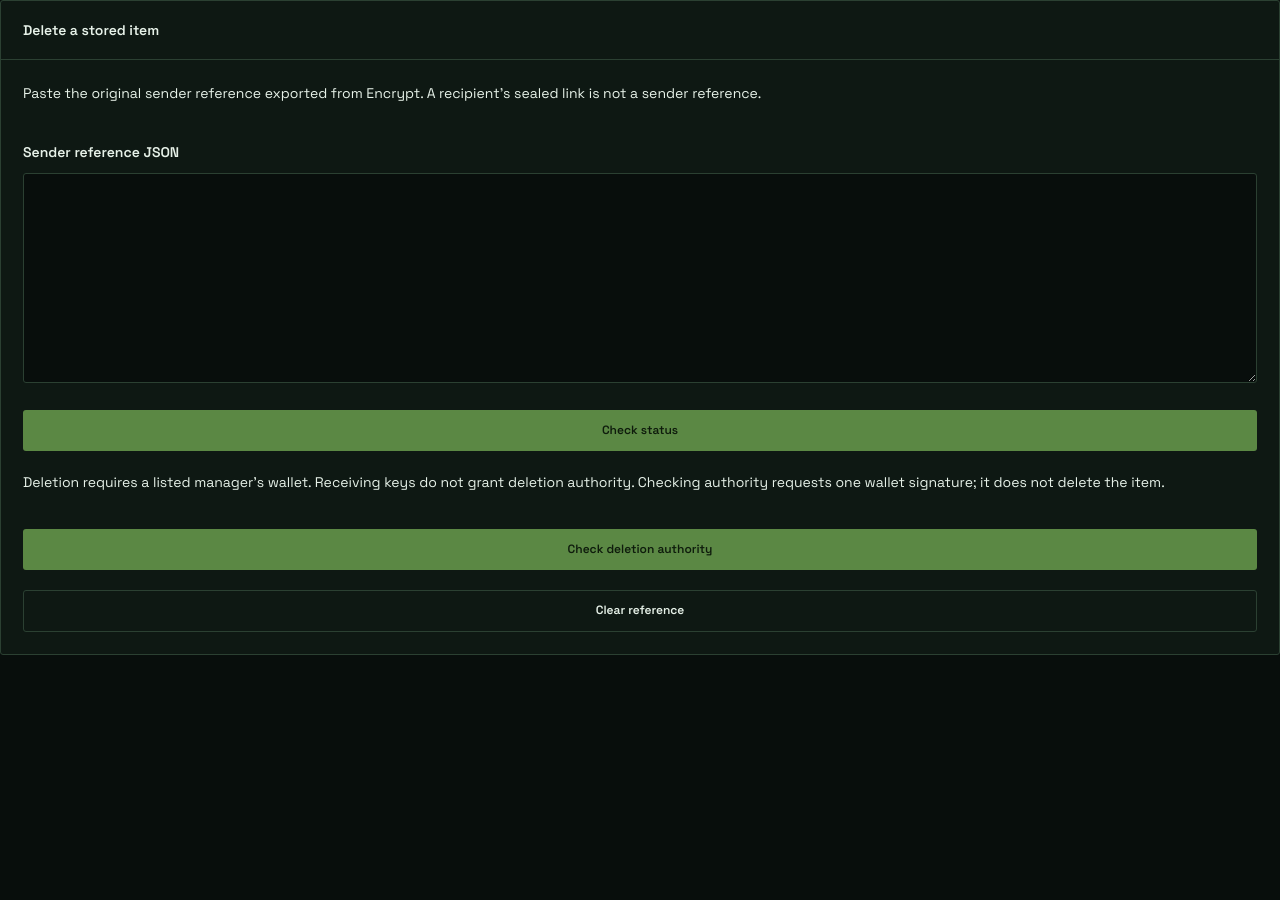
it: changing a reviewed reference clears deletion authority without submitting
In the text box labelled "Sender reference JSON": (640, 278) 23,173 -> 1257,383, type "reference"
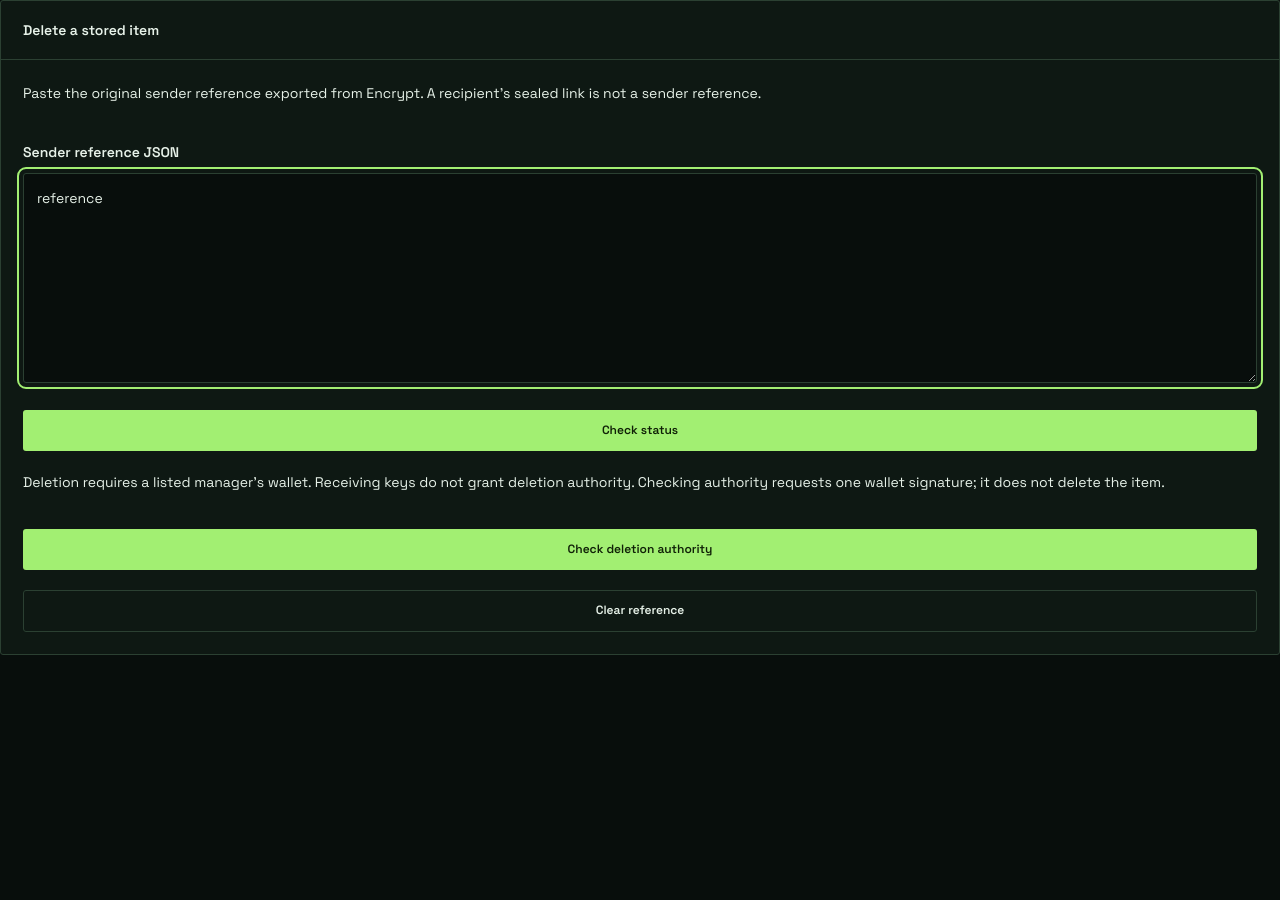
Click the button "Check deletion authority": (640, 550) 23,529 -> 1257,570
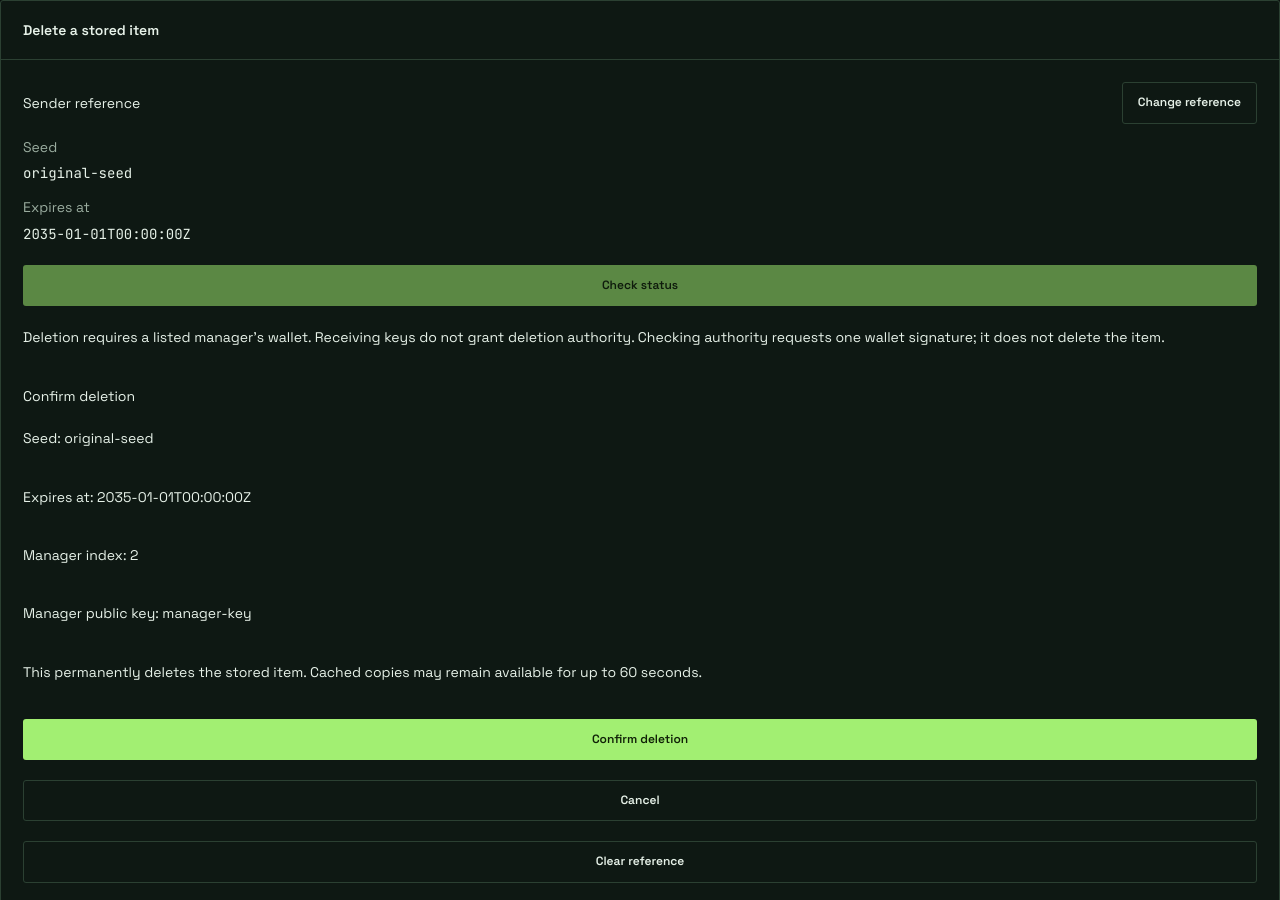
Result: the button "Confirm deletion" is shown at 23,719 -> 1257,760
Click the button "Change reference": (1189, 103) 1122,82 -> 1257,124
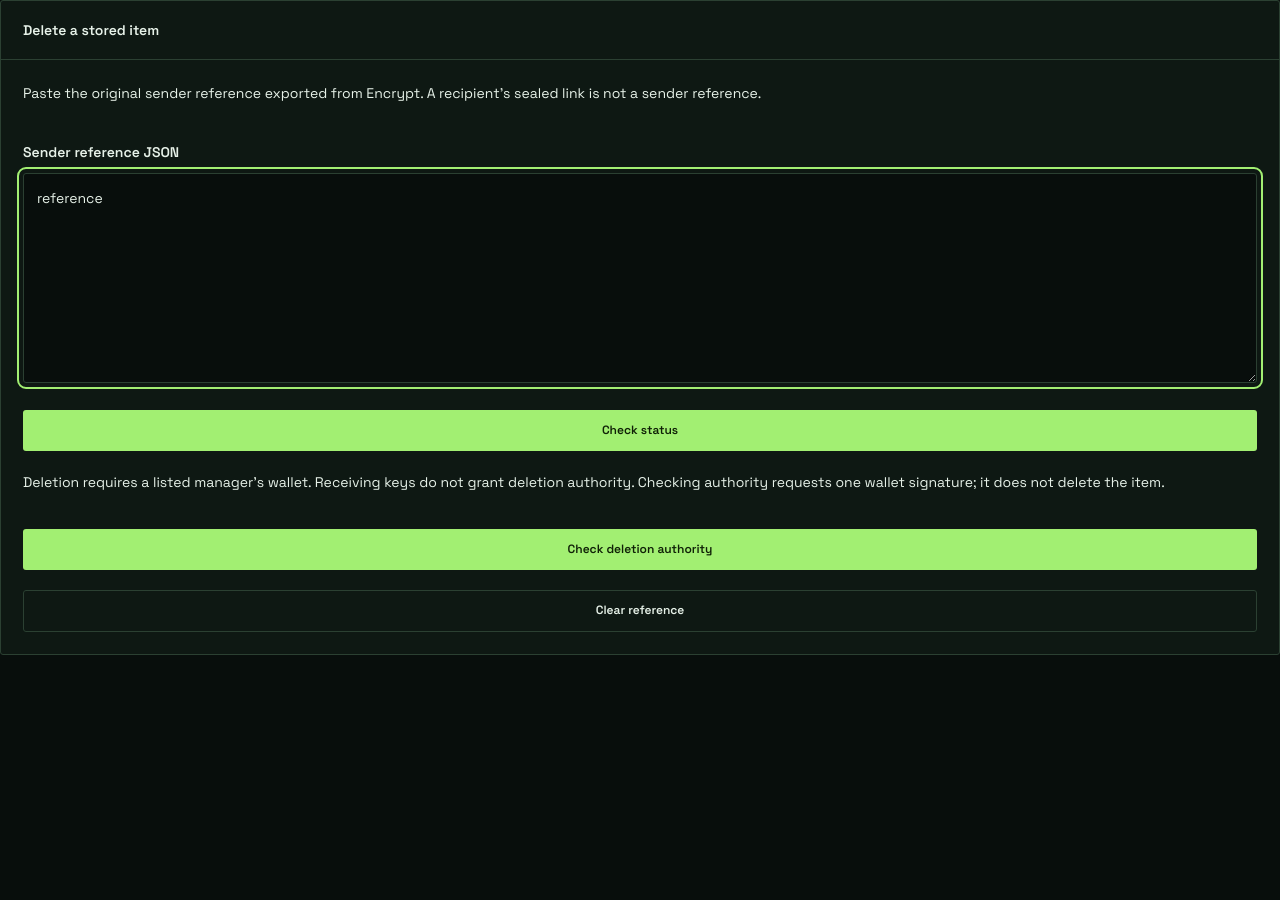
Result: the heading "Confirm deletion" is gone
